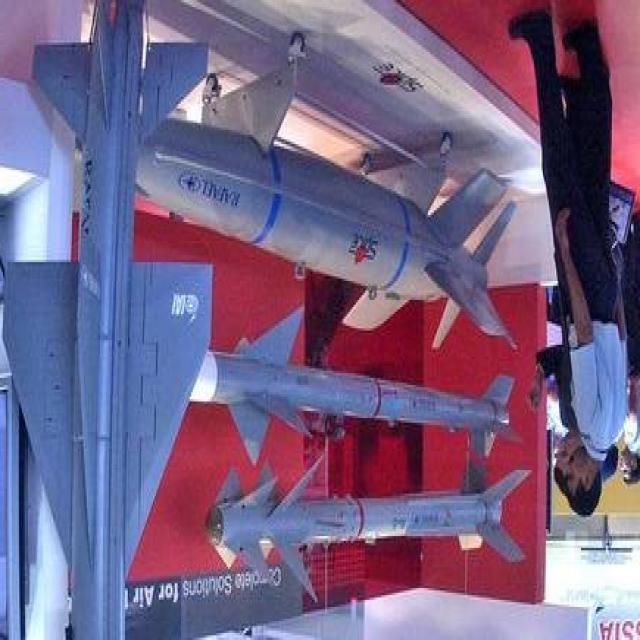Missile: (173, 320, 515, 478), (203, 467, 533, 587)
